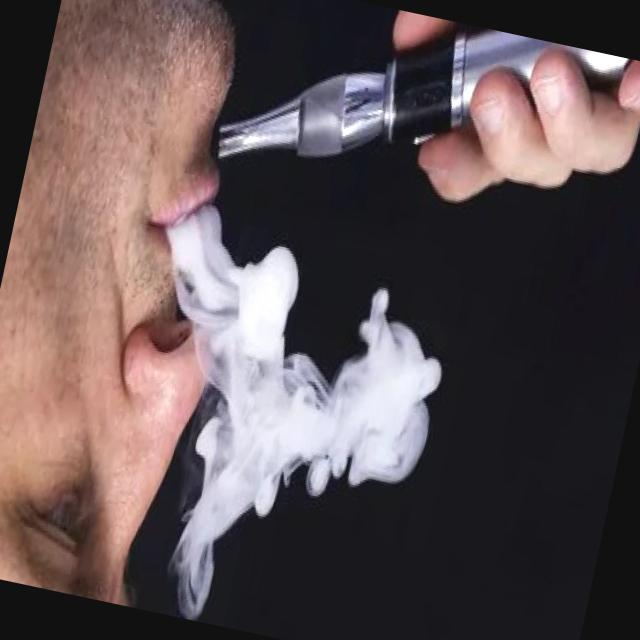cigarette: (202, 0, 640, 245)
